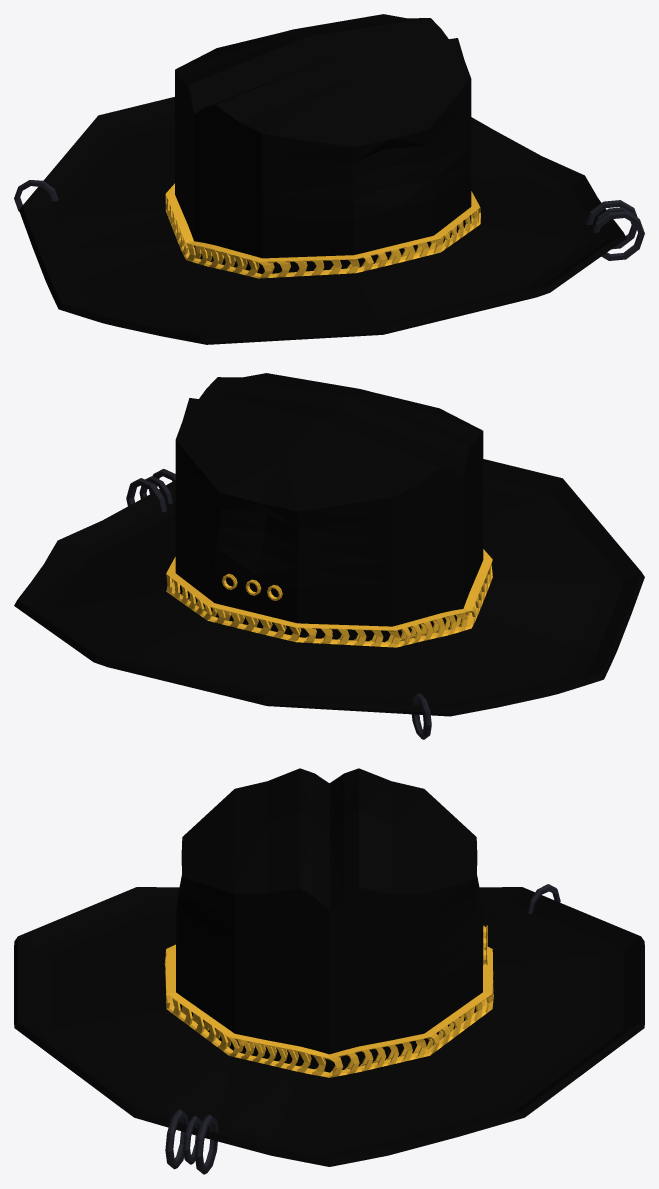
3 views of the same model, one above another, from view 1: azimuth 30°, elevation 25°; view 2: azimuth 150°, elevation 25°; view 3: azimuth 270°, elevation 25° (orthographic). The views are drawn at different scales.
Visible parts, largest first — view 1: Hat1, Hatdetail1, Brimrings1; view 2: Hat1, Hatdetail1, Brimrings1; view 3: Hat1, Hatdetail1, Brimrings1.
Part boxes in pixels (x1=…): Hat1: x1=19, y1=14, x2=626, y2=344; Hatdetail1: x1=165, y1=183, x2=480, y2=278; Brimrings1: x1=14, y1=180, x2=644, y2=260; Hat1: x1=14, y1=373, x2=644, y2=716; Hatdetail1: x1=166, y1=549, x2=492, y2=647; Brimrings1: x1=126, y1=469, x2=431, y2=739; Hat1: x1=14, y1=768, x2=644, y2=1166; Hatdetail1: x1=164, y1=925, x2=493, y2=1077; Brimrings1: x1=165, y1=884, x2=560, y2=1174.
Size of the model in its own units: 2.6 by 1.02 by 2.47.
